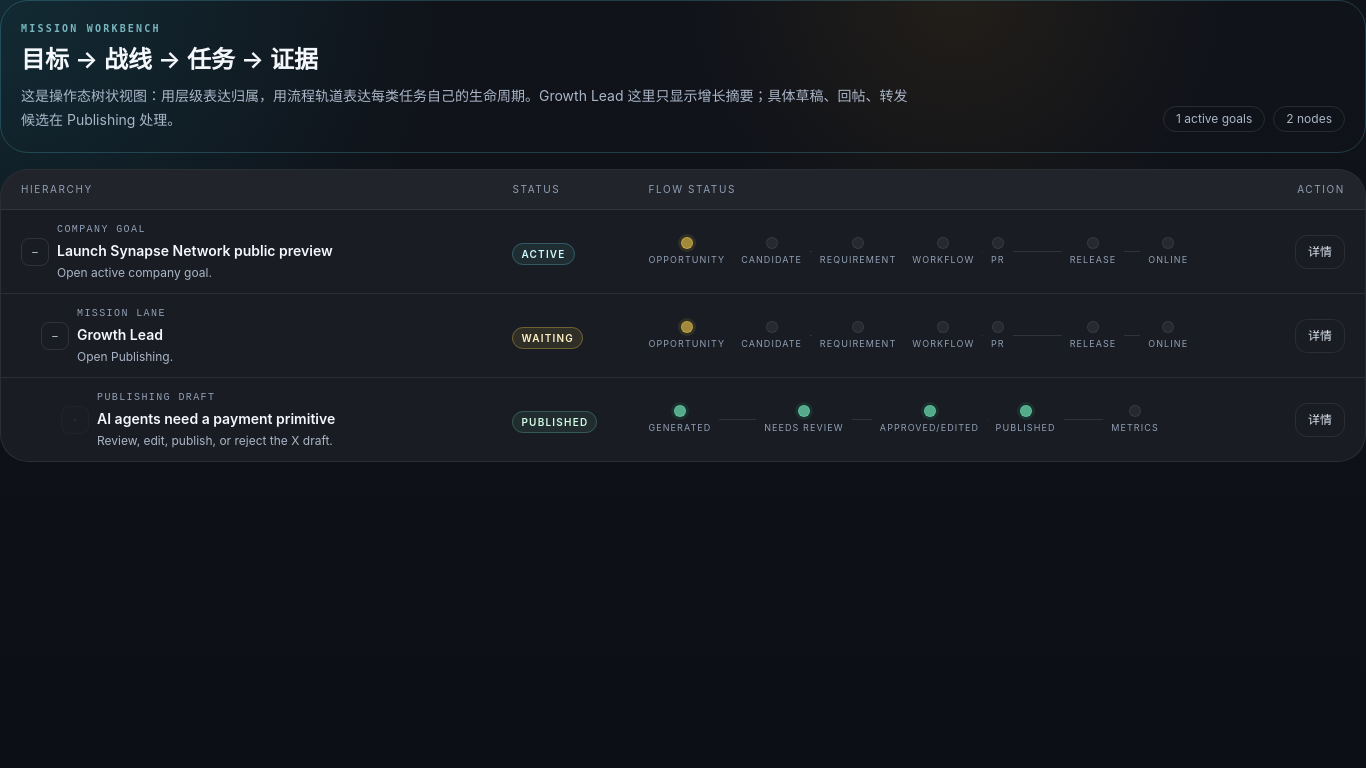
Scenario: MissionWorkbenchPanel › shows published X post evidence in the centered detail modal
Click the button "详情" next to "Metrics" at (1320, 420), box [1295,402,1345,436]
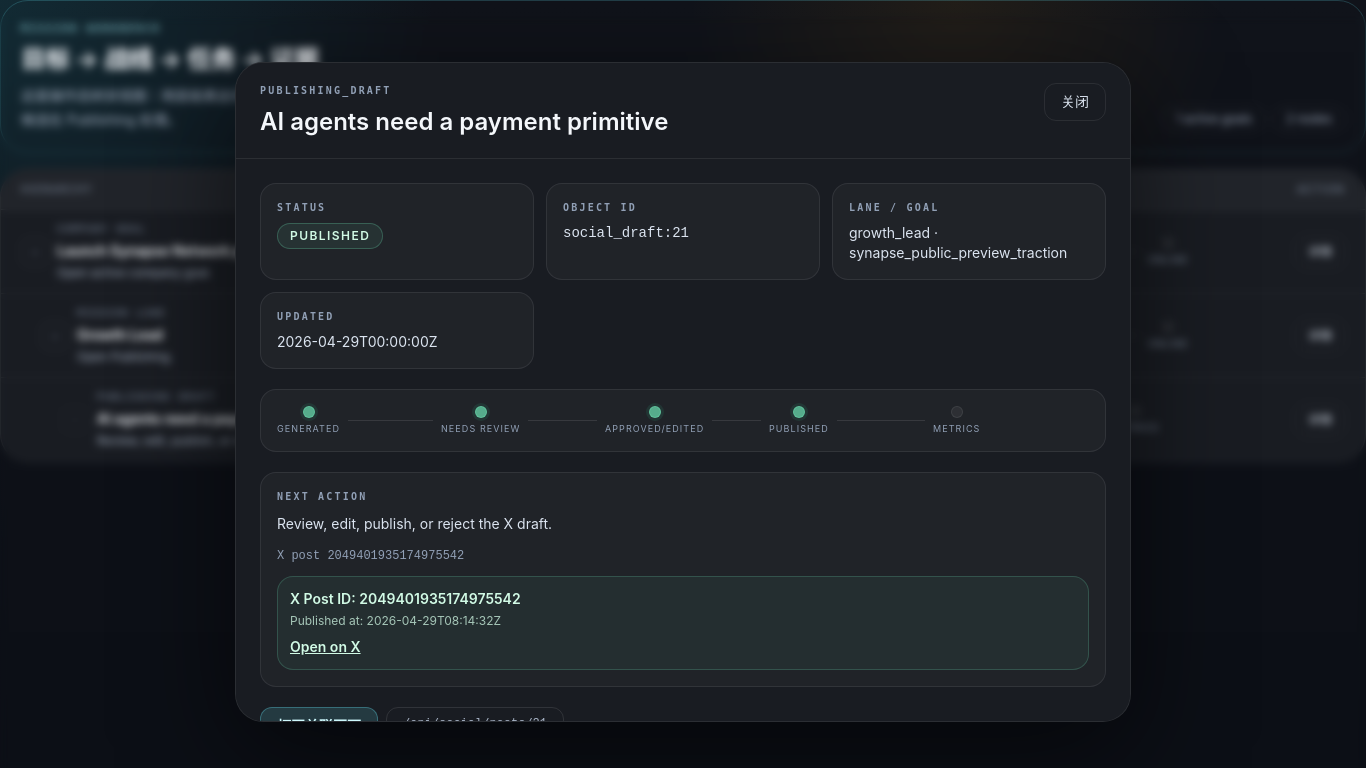
Expected: the dialog named "Mission item detail" is shown, [235,62,1131,722]
Expected: the text "X Post ID: 2049401935174975542" is shown, [290,590,521,607]
